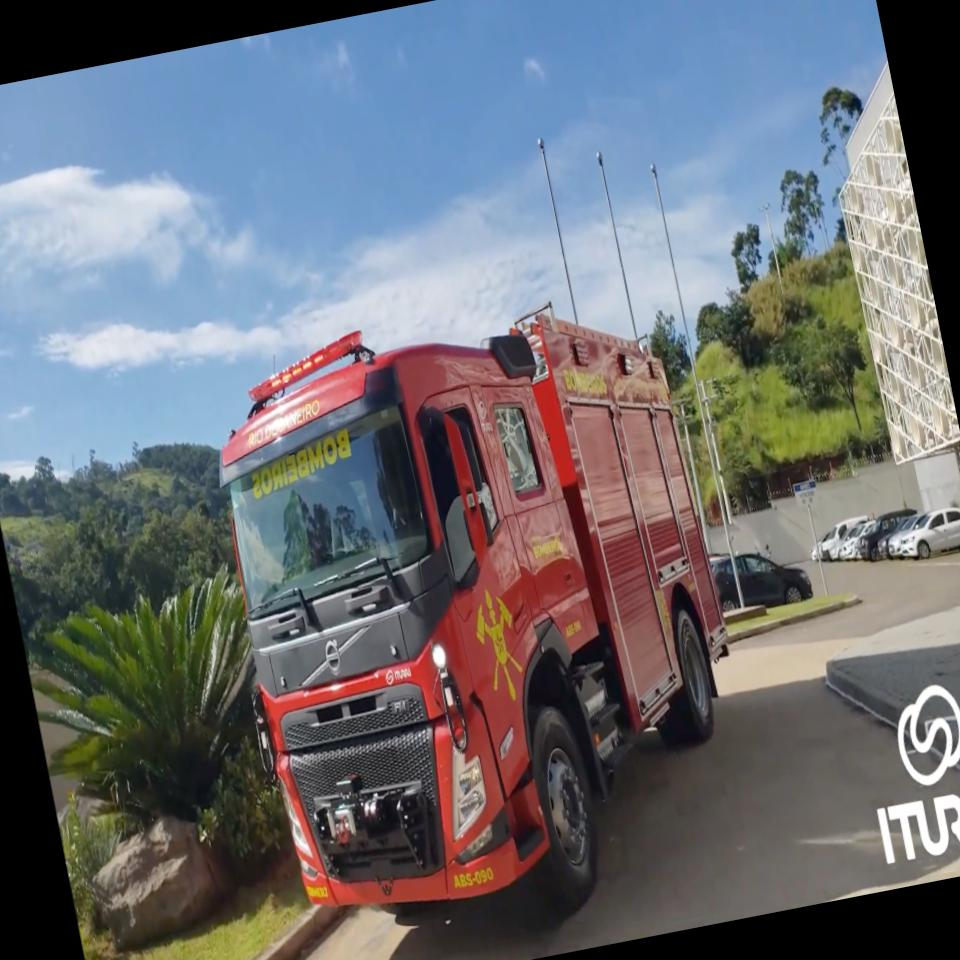viatura: (185, 269, 778, 960)
